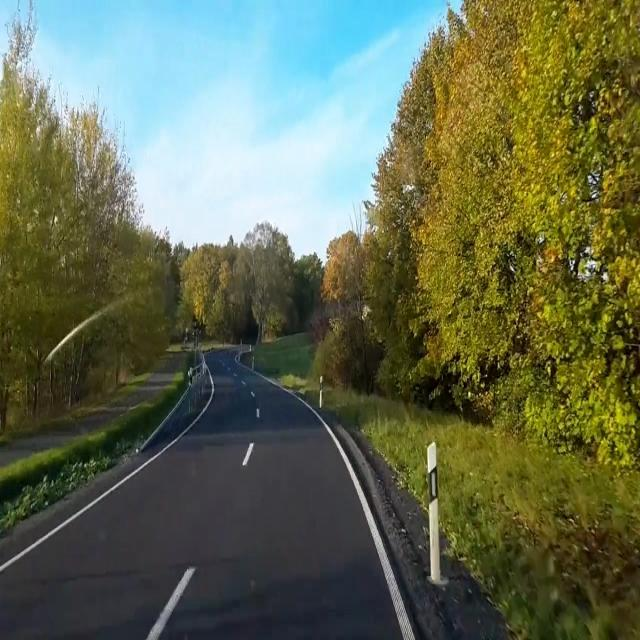lane: (0, 356, 215, 573), (298, 398, 415, 639), (146, 566, 196, 639), (242, 442, 253, 466), (257, 409, 260, 418)
road: (0, 352, 401, 639)
